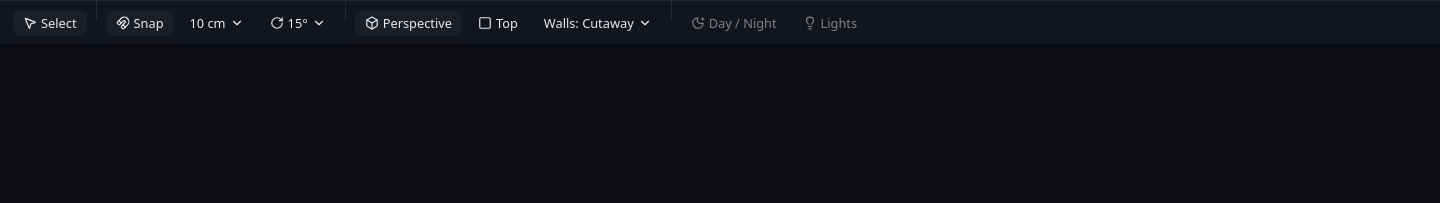
Test case: BottomBar › chooses the grid size from a menu
The image size is (1440, 203).
Click the button with aria-label "Grid size: 10 cm". click: (217, 22)
box: [178, 8, 255, 36]
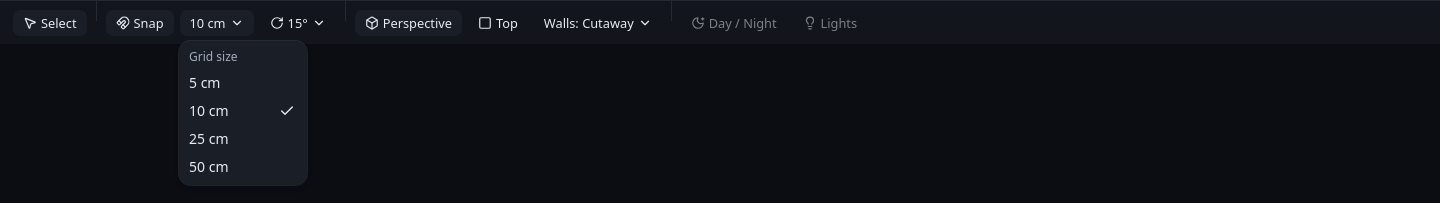
Click the menu item "25 cm". click: (209, 138)
box: [189, 129, 228, 148]
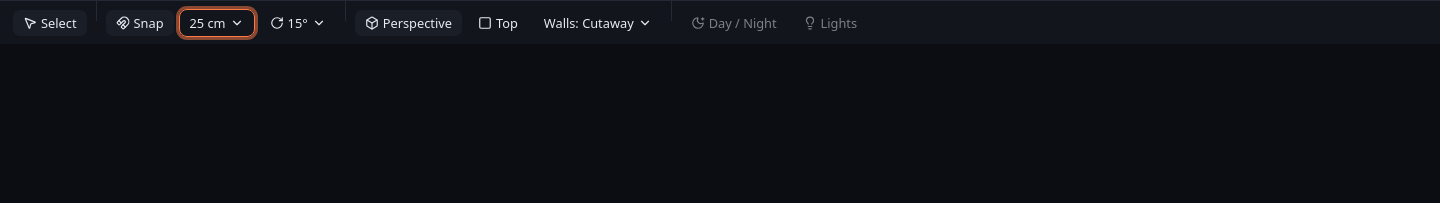
Expected: the button with aria-label "Grid size: 25 cm" is shown, [178, 8, 255, 36]
